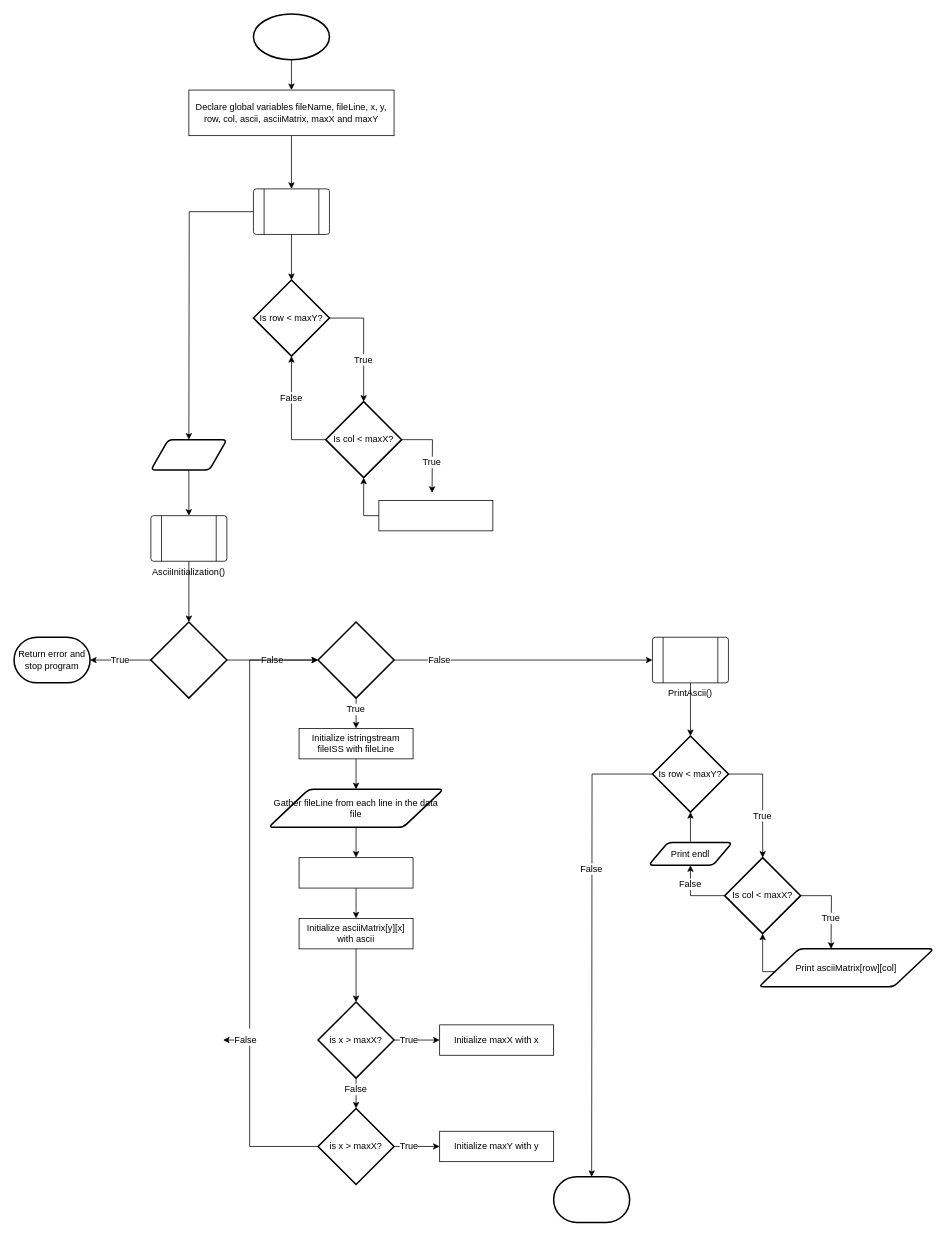
This 947x1236 diagram has some shape labels left out. Each missing label, with the centre of its shape:
Initialize AsciiMatrix[row][col] as " ": pixel 435 515
Input file: pixel 188 454
Is fileReader NOt at end of file?: pixel 355 659
Is fileReader NOT open?: pixel 188 659
MatrixInitialization(): pixel 291 211
Parse fileLine into x, ascii and y.: pixel 355 872
Start: pixel 291 36
Stop: pixel 591 1199
